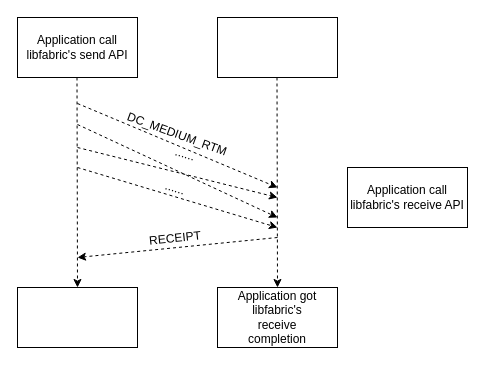
This 485x365 diagram has some shape labels left out. Each missing label, with the box of its shape:
Application got libfabric's send completion: (16, 286, 138, 348)
Receiver's progress engine: (216, 16, 338, 78)
